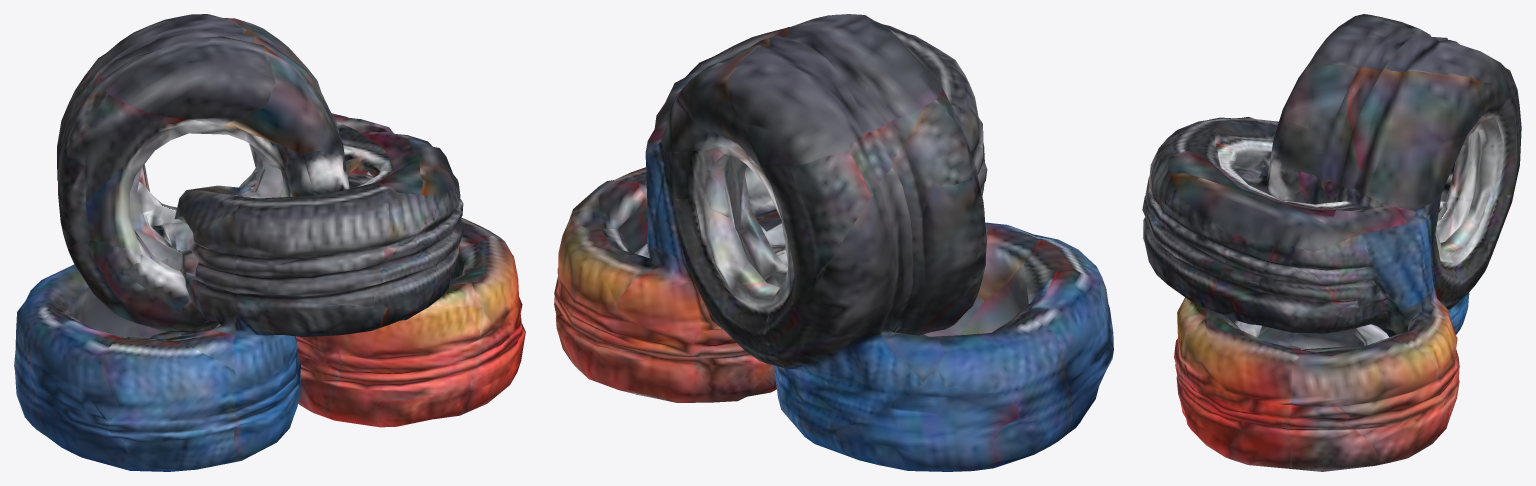
3 renders of one model, left to right at view 1: azimuth 30°, elevation 25°; view 2: azimuth 150°, elevation 25°; view 3: azimuth 270°, elevation 25°, orthographic. The views are drawn at different scales.
Size of the model in its own units: 0.5619 by 0.4116 by 0.427.
Materials: 1 (1 with a texture image).
